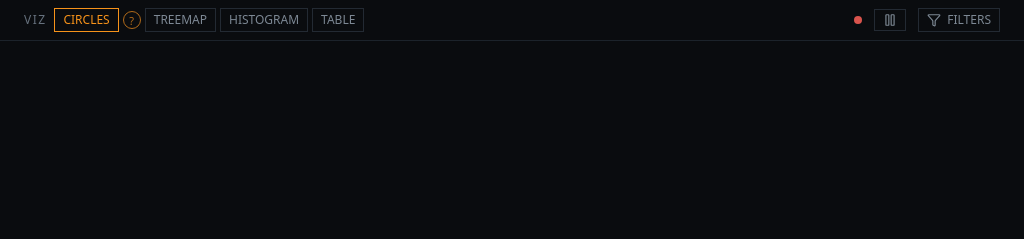
it: ClusterControls › renders the SHOW slider (and no BINS slider) for circles
Click the button named "Toggle filters" at (959, 20), box [918,8,1000,32]
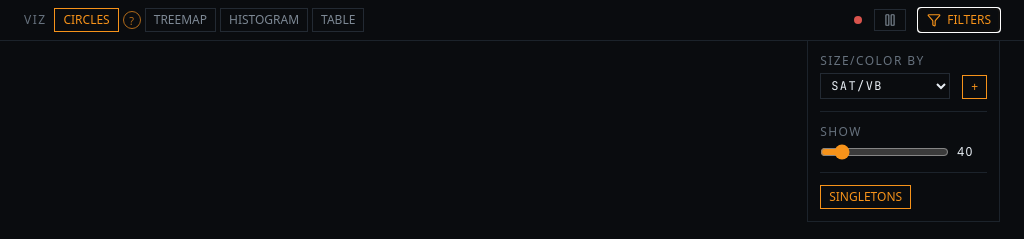
Expected: the text "BINS" is not shown
Expected: the text "SHOW" is shown, [820,123,862,140]
